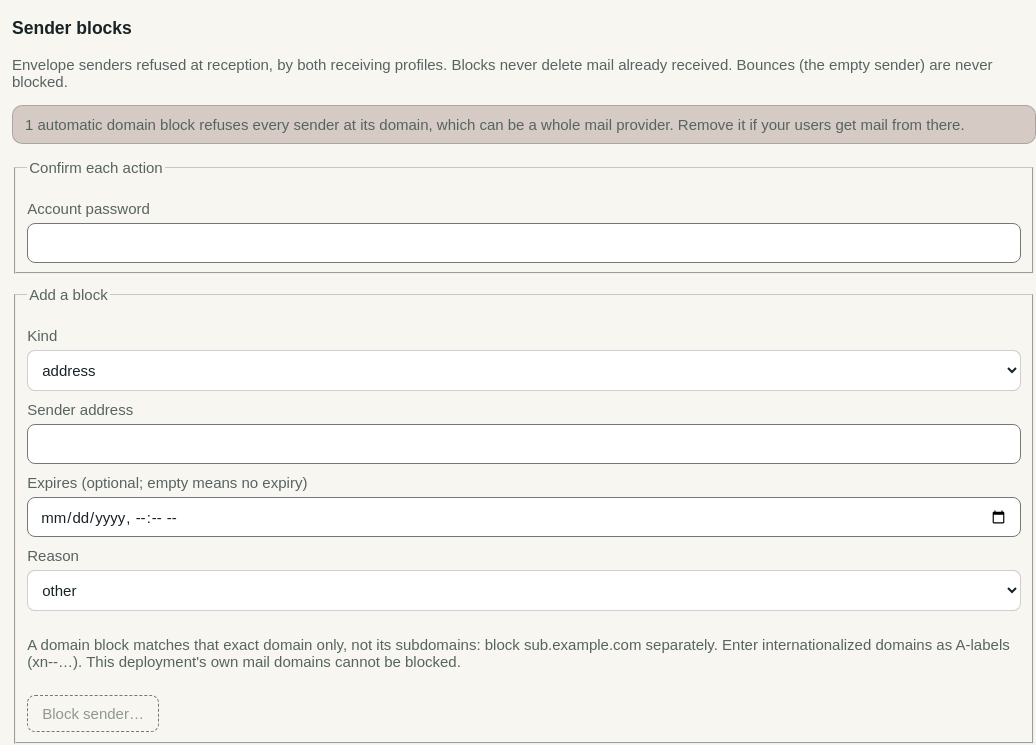
shows the removal warning beside the notice
The width and height of the screenshot is (1036, 745).
In the password field labelled "Account password": (524, 243) [27,223,1021,263], type "account-secret"
(page scrolled)
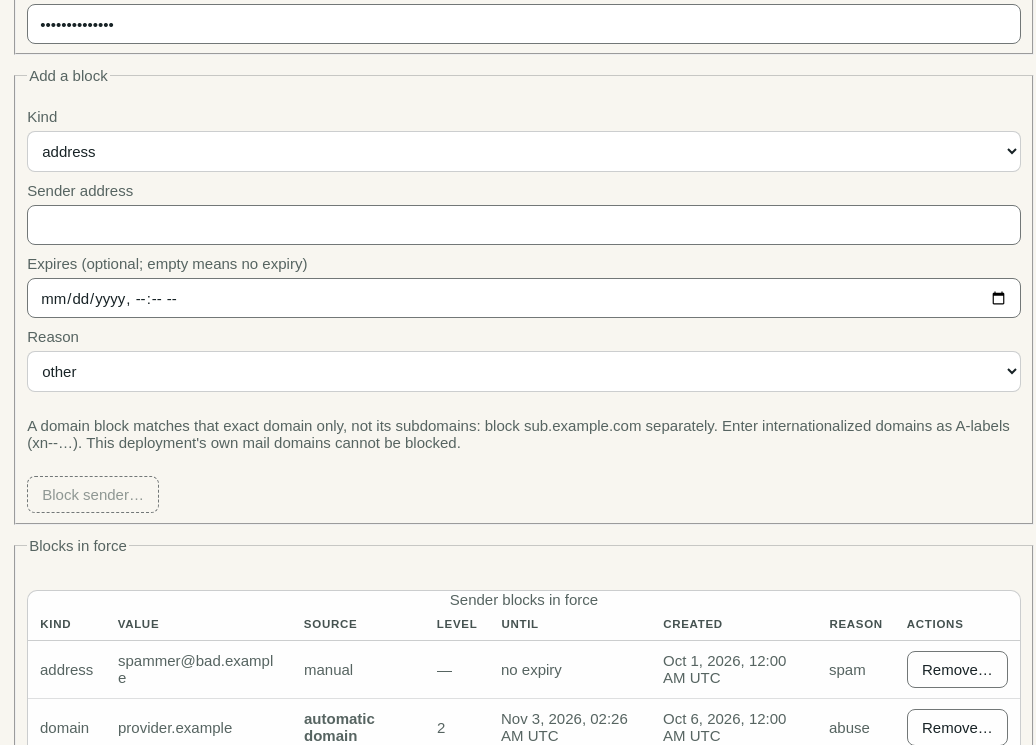
Click the button with aria-label "Remove address block spammer@bad.example": (957, 669) [907,651,1008,688]
(page scrolled)
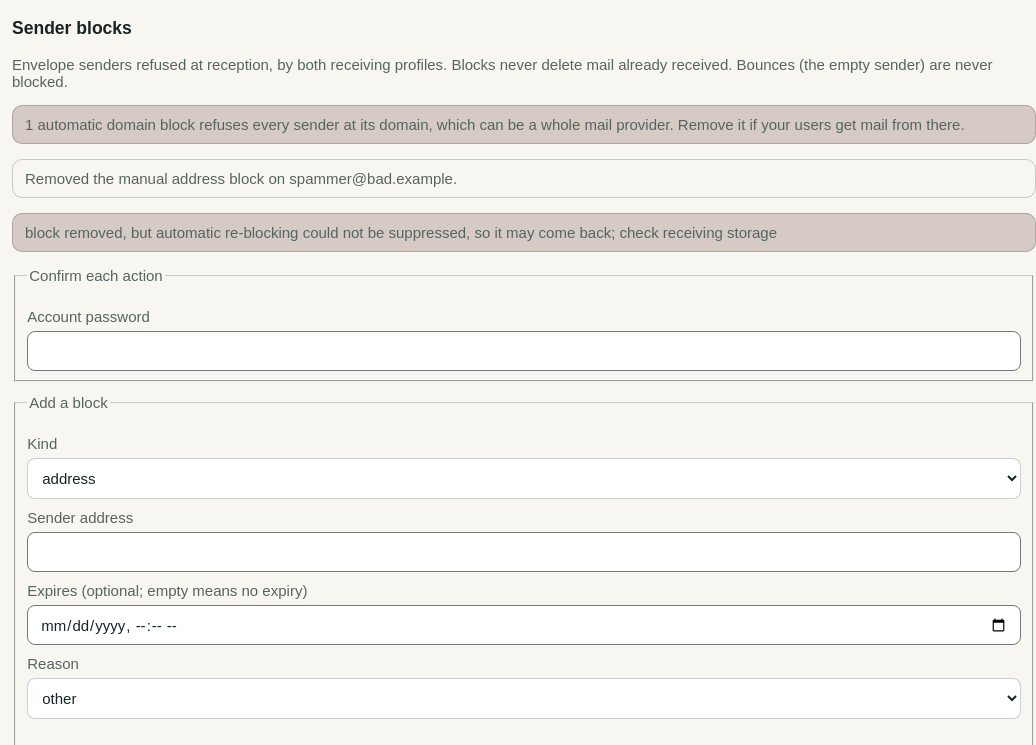
Expected: the text "Removed the manual address block on spammer@bad.example." is shown, [12,159,1035,198]
